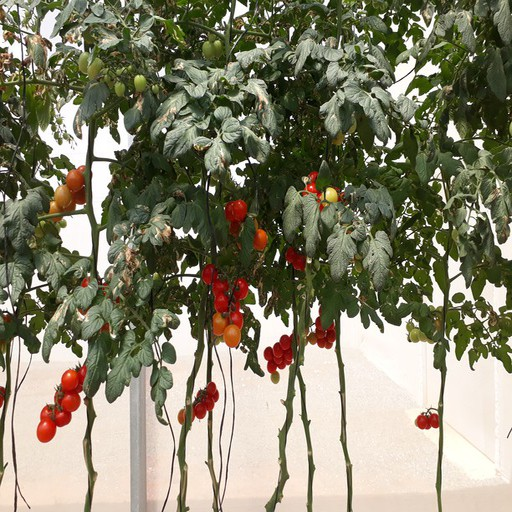green tomato bunch: (77, 48, 157, 96), (400, 320, 438, 345), (203, 37, 226, 57)
red tomato bunch: (37, 364, 88, 444), (203, 261, 249, 347), (46, 163, 89, 222), (79, 275, 118, 337), (223, 200, 266, 251), (304, 170, 349, 218), (178, 382, 219, 424), (264, 334, 298, 373), (312, 303, 335, 349), (284, 243, 310, 271), (416, 409, 440, 432)
